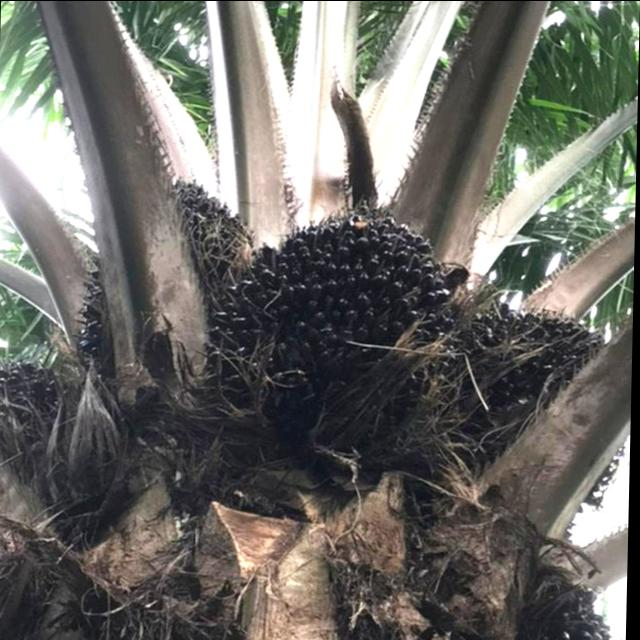almost: (206, 185, 463, 458)
